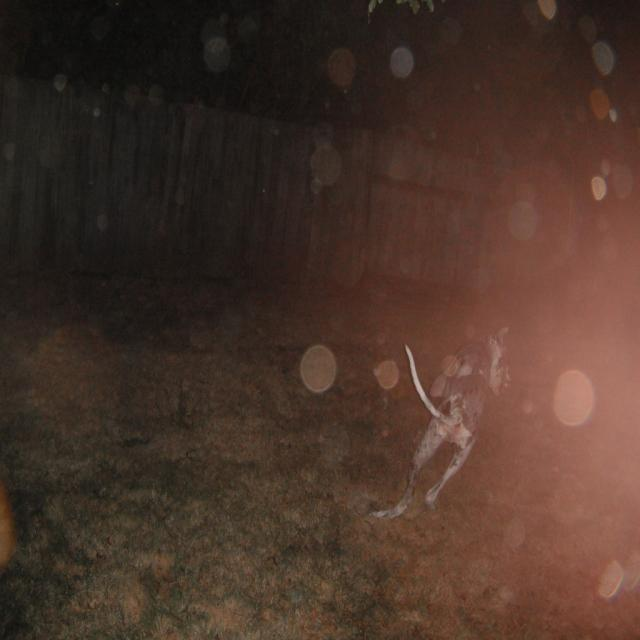Dog: (380, 282, 539, 525)
